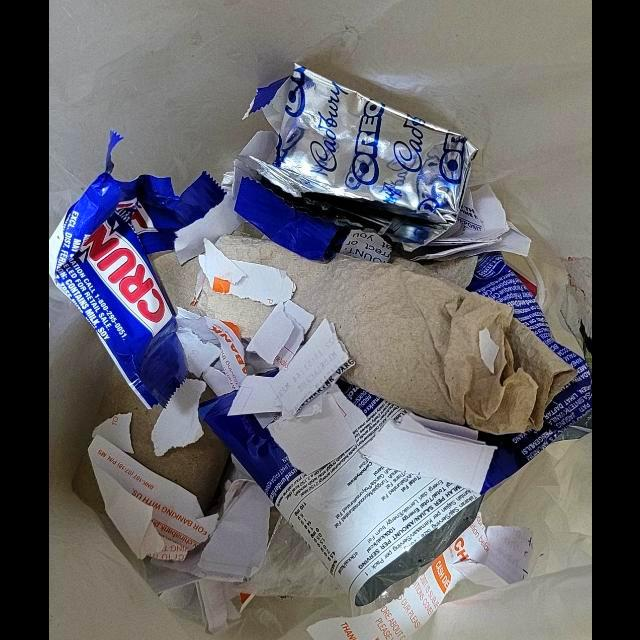food_wrapper: (149, 180, 592, 612), (231, 65, 478, 263), (49, 131, 224, 410)
paper: (214, 236, 575, 436), (306, 515, 532, 640), (150, 466, 273, 631), (86, 412, 218, 563), (226, 319, 355, 429), (152, 251, 273, 342), (395, 187, 531, 264), (267, 382, 369, 476), (199, 240, 296, 309), (175, 307, 246, 397), (245, 300, 317, 371), (150, 379, 206, 457)
